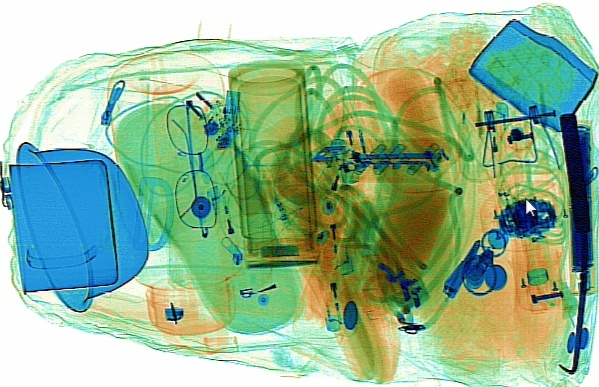lighter: (314, 138, 354, 218), (328, 97, 371, 169), (206, 184, 243, 265), (323, 254, 343, 332), (493, 100, 508, 182)
